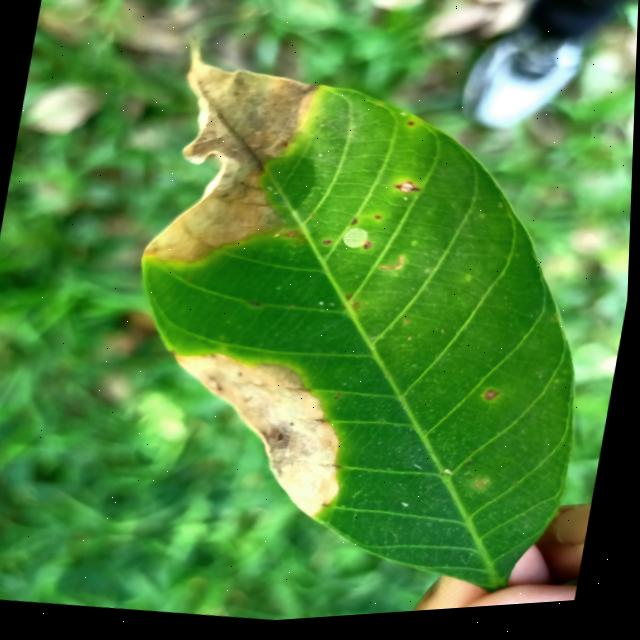Colletotrichum: (400, 186, 418, 201), (487, 396, 503, 409)
Leaf-Blight: (143, 59, 321, 286), (153, 343, 364, 534)
